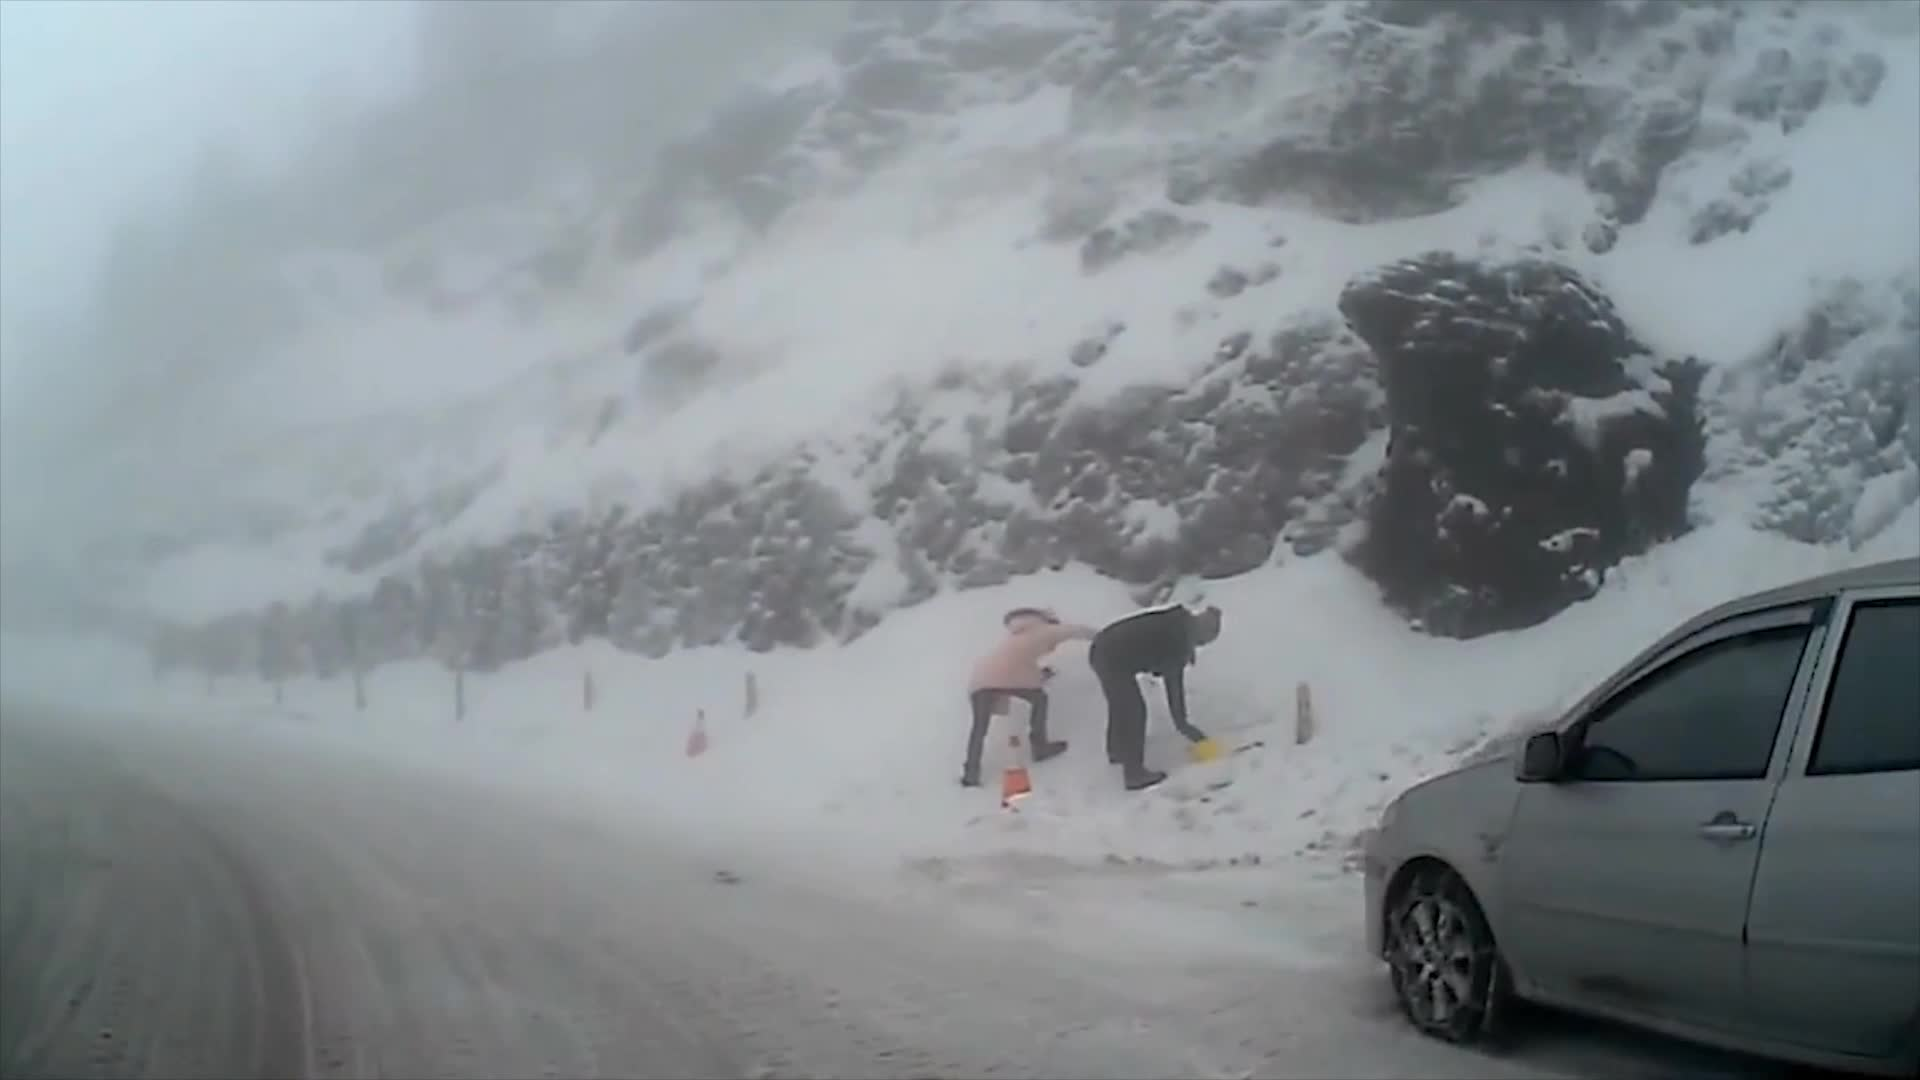pedestrian: (955, 598, 1092, 786), (1087, 607, 1221, 792)
vehicle: (1354, 554, 1920, 1080)
